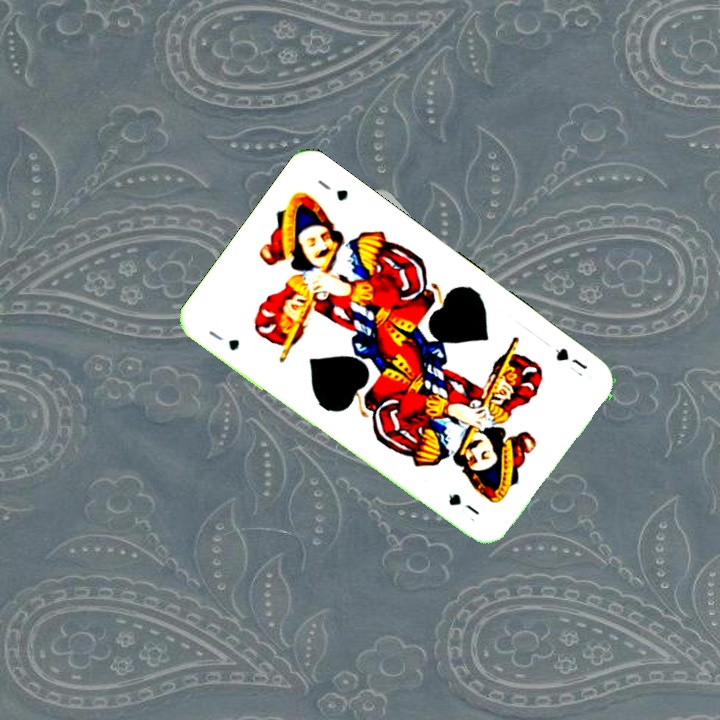GU: (551, 343, 590, 372), (204, 326, 243, 353)
